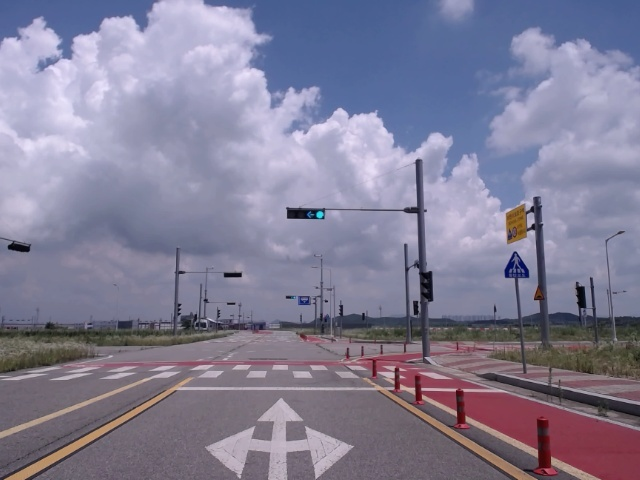all_green_4: (284, 204, 326, 220)
